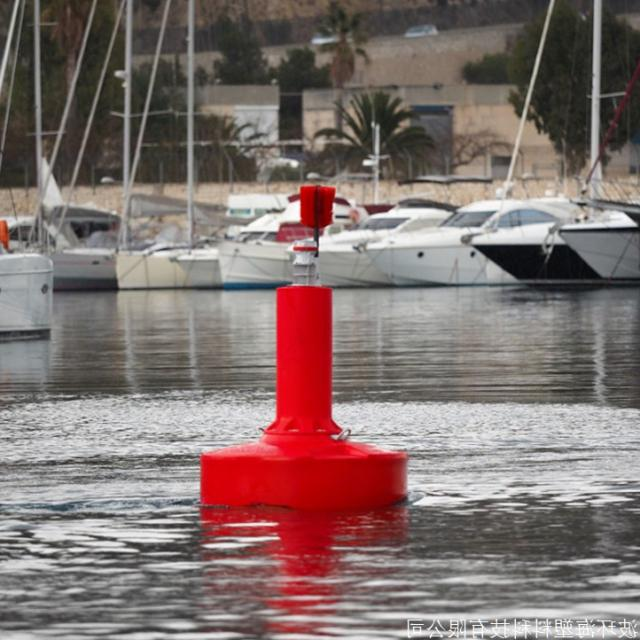buoy: (194, 173, 408, 509)
